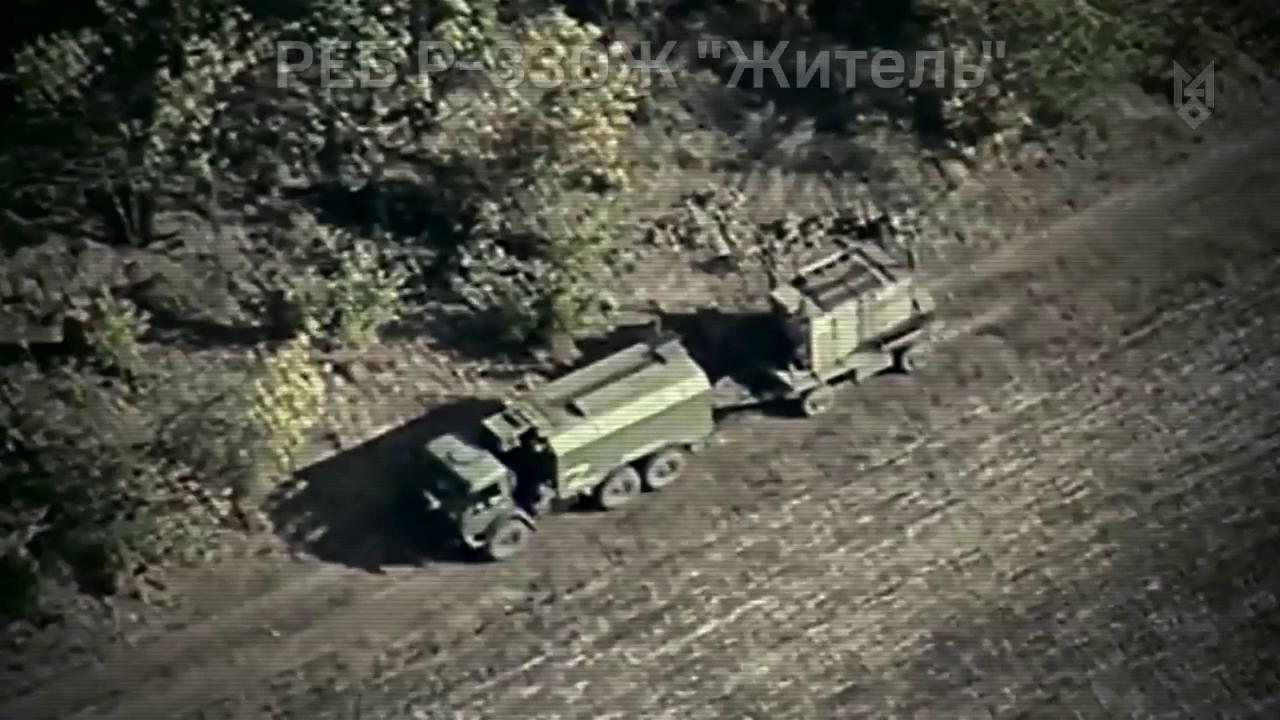tank: (419, 327, 725, 575), (730, 245, 950, 430)
